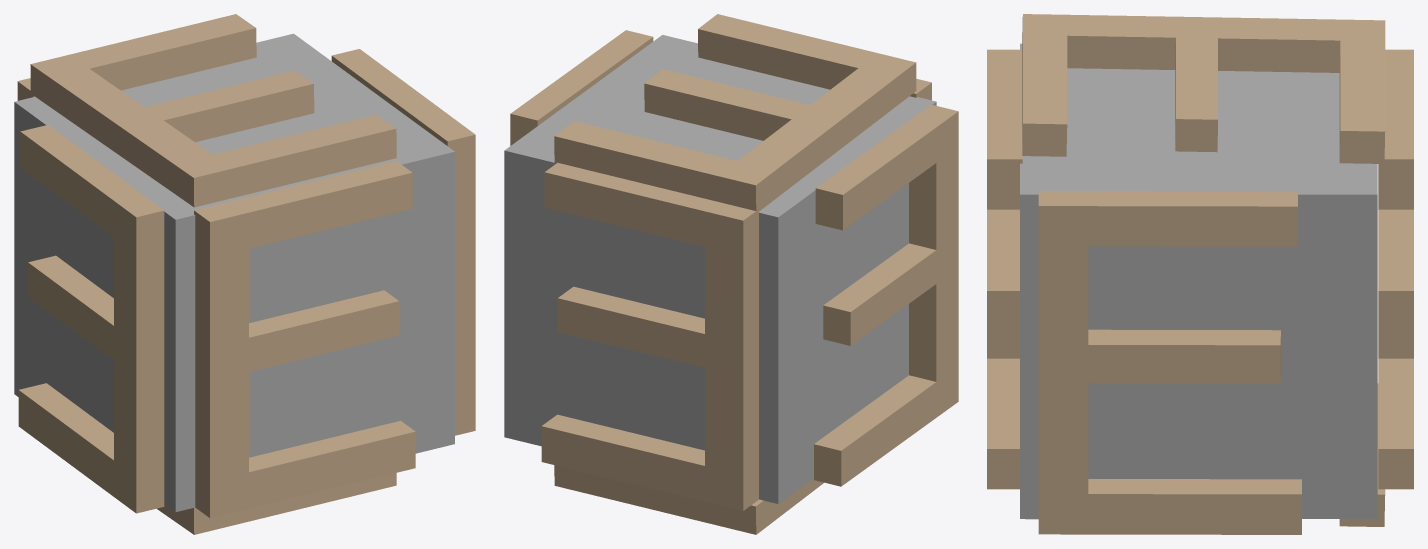
Rendered from LetterE.fbx.
3 renders of one model, left to right at view 1: azimuth 30°, elevation 25°; view 2: azimuth 150°, elevation 25°; view 3: azimuth 270°, elevation 25°, orthographic. The views are drawn at different scales.
Parts seen in each view (by area): view 1: Box, Text Front, Text Top, Text Left, Text Right, Text Bottom; view 2: Box, Text Back, Text Top, Text Left, Text Bottom, Text Right; view 3: Box, Text Right, Text Top, Text Back, Text Front, Text Bottom.
Boxes of the visible parts, left/top/right/bottom form: Box: left=14, top=33, right=454, bottom=511; Text Front: left=194, top=161, right=415, bottom=518; Text Top: left=30, top=14, right=396, bottom=207; Text Left: left=18, top=125, right=164, bottom=513; Text Right: left=331, top=49, right=475, bottom=435; Text Bottom: left=157, top=473, right=396, bottom=534; Box: left=504, top=35, right=936, bottom=503; Text Back: left=541, top=162, right=758, bottom=510; Text Top: left=554, top=14, right=916, bottom=211; Text Left: left=814, top=104, right=958, bottom=486; Text Bottom: left=554, top=465, right=823, bottom=534; Text Right: left=510, top=30, right=653, bottom=145; Box: left=1020, top=43, right=1377, bottom=518; Text Right: left=1038, top=191, right=1301, bottom=534; Text Top: left=1022, top=14, right=1385, bottom=163; Text Back: left=1378, top=49, right=1413, bottom=489; Text Front: left=987, top=49, right=1022, bottom=489; Text Bottom: left=1025, top=383, right=1385, bottom=526.
Bounding box in the file's own units: 1.22 × 1.24 × 1.19.
